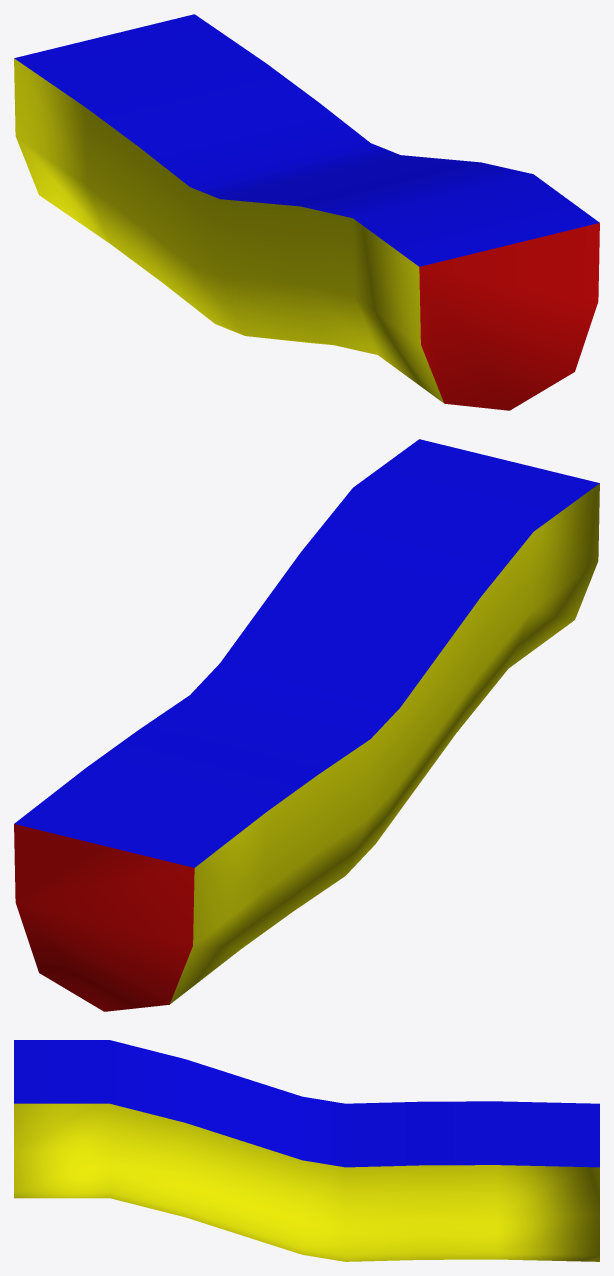
The picture shows the model from 3 angles, top to bottom: view 1: azimuth 30°, elevation 25°; view 2: azimuth 150°, elevation 25°; view 3: azimuth 270°, elevation 25°; orthographic projection. The views are drawn at different scales.
Parts seen in each view (by area): view 1: polySurface127; view 2: polySurface127; view 3: polySurface127.
Boxes of the visible parts, <box> form: polySurface127: <box>14,14,599,410</box>; polySurface127: <box>14,439,599,1011</box>; polySurface127: <box>14,1040,599,1261</box>.
Bounding box in the file's own units: 23.58 × 31.68 × 91.66.
